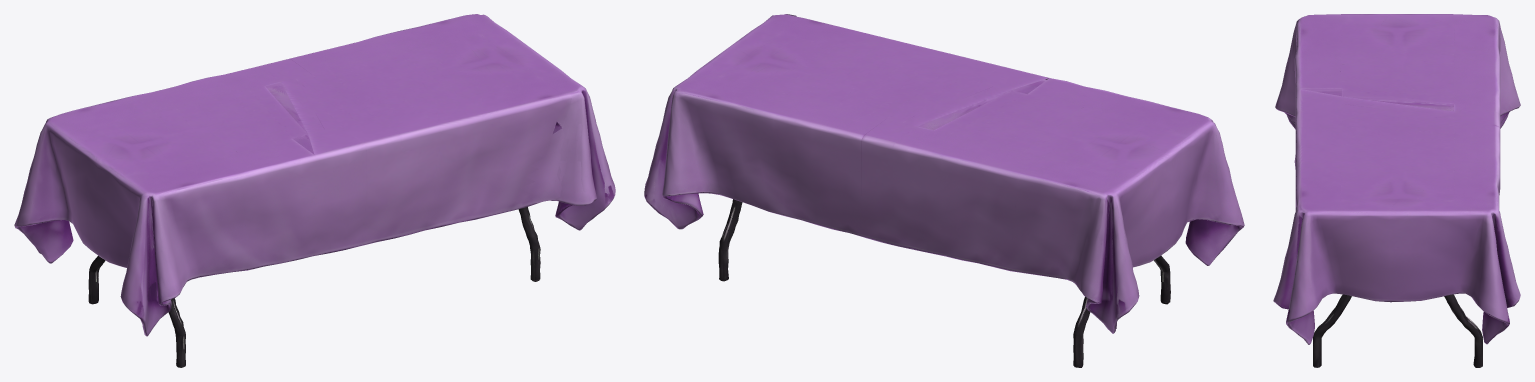
The model's file is BNQ_TBLE_LAVENDAR_LIN_0630194257_texture.glb.
3 renders of one model, left to right at view 1: azimuth 30°, elevation 25°; view 2: azimuth 150°, elevation 25°; view 3: azimuth 270°, elevation 25°, orthographic. The views are drawn at different scales.
Parts seen in each view (by area): view 1: Mesh_0; view 2: Mesh_0; view 3: Mesh_0.
Boxes of the visible parts, <box> form: Mesh_0: <box>14,14,615,367</box>; Mesh_0: <box>644,14,1244,367</box>; Mesh_0: <box>1273,14,1520,367</box>.
Size of the model in its own units: 2.07 by 0.762 by 0.9791.
Materials: 1 (1 with a texture image).
